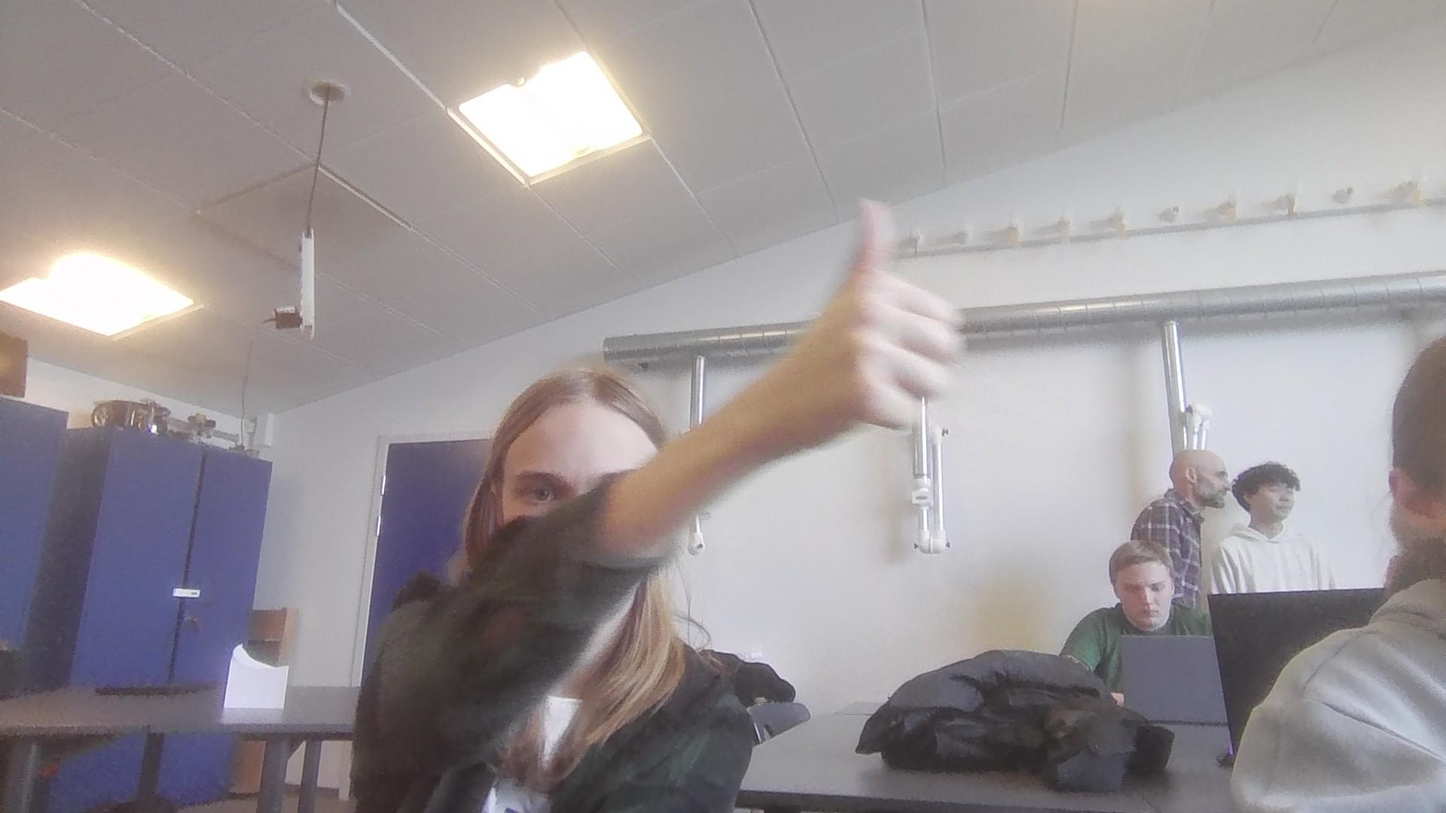thumbs up: (783, 189, 964, 450)
